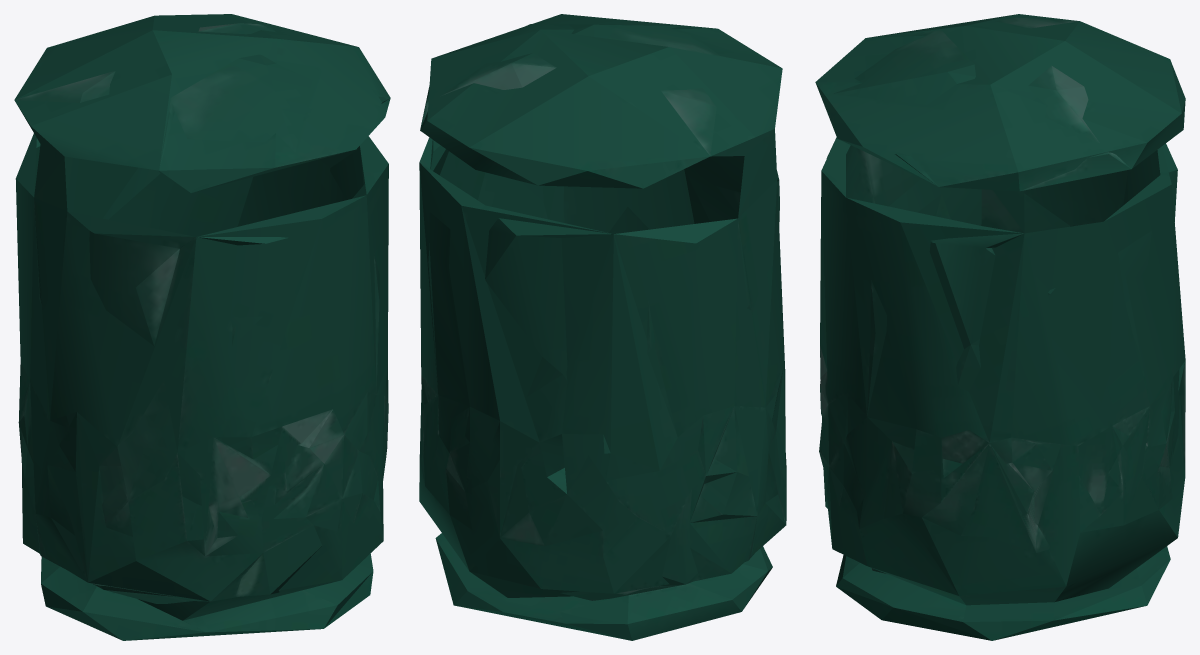
The model's file is trash-can.glb.
The picture shows the model from 3 angles, left to right: view 1: azimuth 30°, elevation 25°; view 2: azimuth 150°, elevation 25°; view 3: azimuth 270°, elevation 25°; orthographic projection.
Size of the model in its own units: 0.5204 by 0.8 by 0.5168.
Materials: 1 (1 with a texture image).
